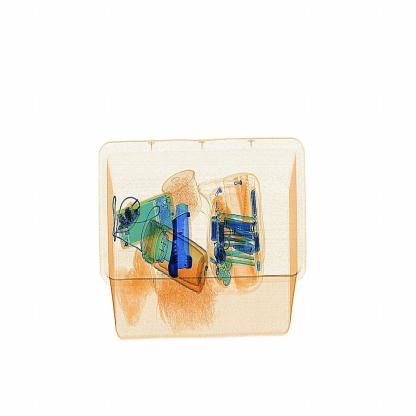pliers: (166, 198, 196, 272)
